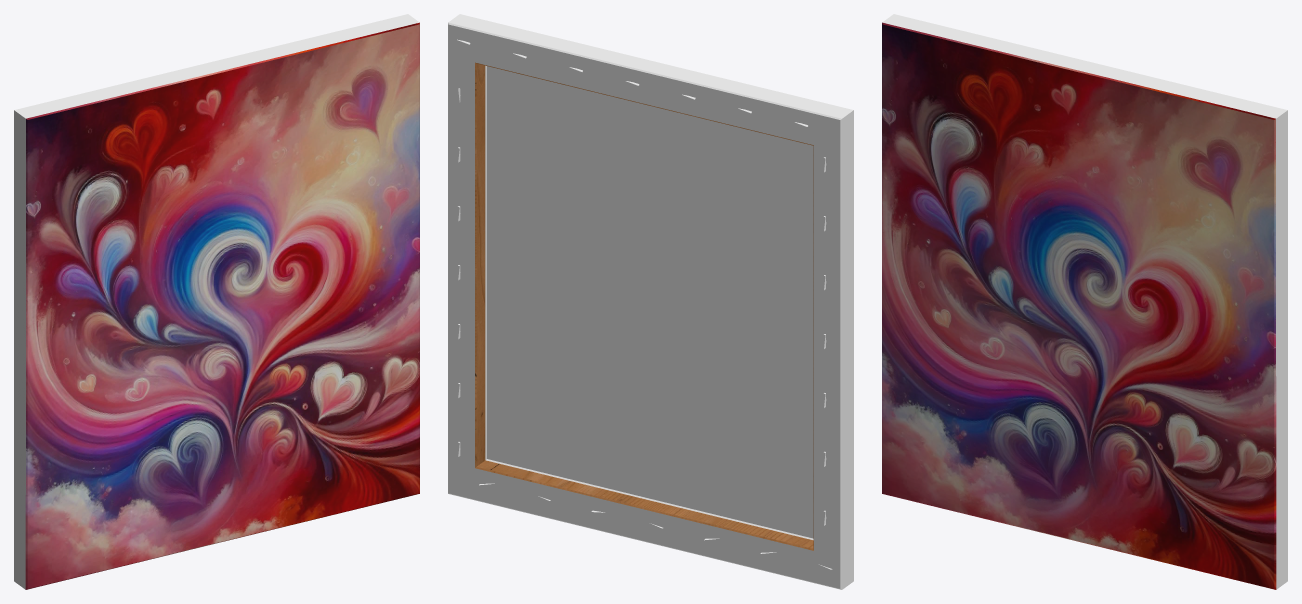
The model's file is Painting2.glb.
3 renders of one model, left to right at view 1: azimuth 30°, elevation 25°; view 2: azimuth 150°, elevation 25°; view 3: azimuth 330°, elevation 25°, orthographic.
Visible parts, largest first — view 1: SM_Frame_3_4; view 2: SM_Frame_3_4; view 3: SM_Frame_3_4.
Boxes of the visible parts, box(x1,y1,x2,y2) form: SM_Frame_3_4: box(14, 14, 419, 589); SM_Frame_3_4: box(448, 14, 853, 589); SM_Frame_3_4: box(882, 14, 1287, 589).
Bounding box in the file's own units: 0.7 × 0.8 × 0.0446.
Materials: 4 (2 with a texture image).
